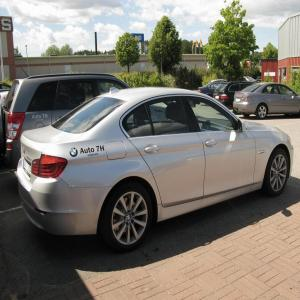Vehicle-registration-plate: (24, 160, 33, 181), (236, 99, 242, 103), (216, 97, 220, 101)
